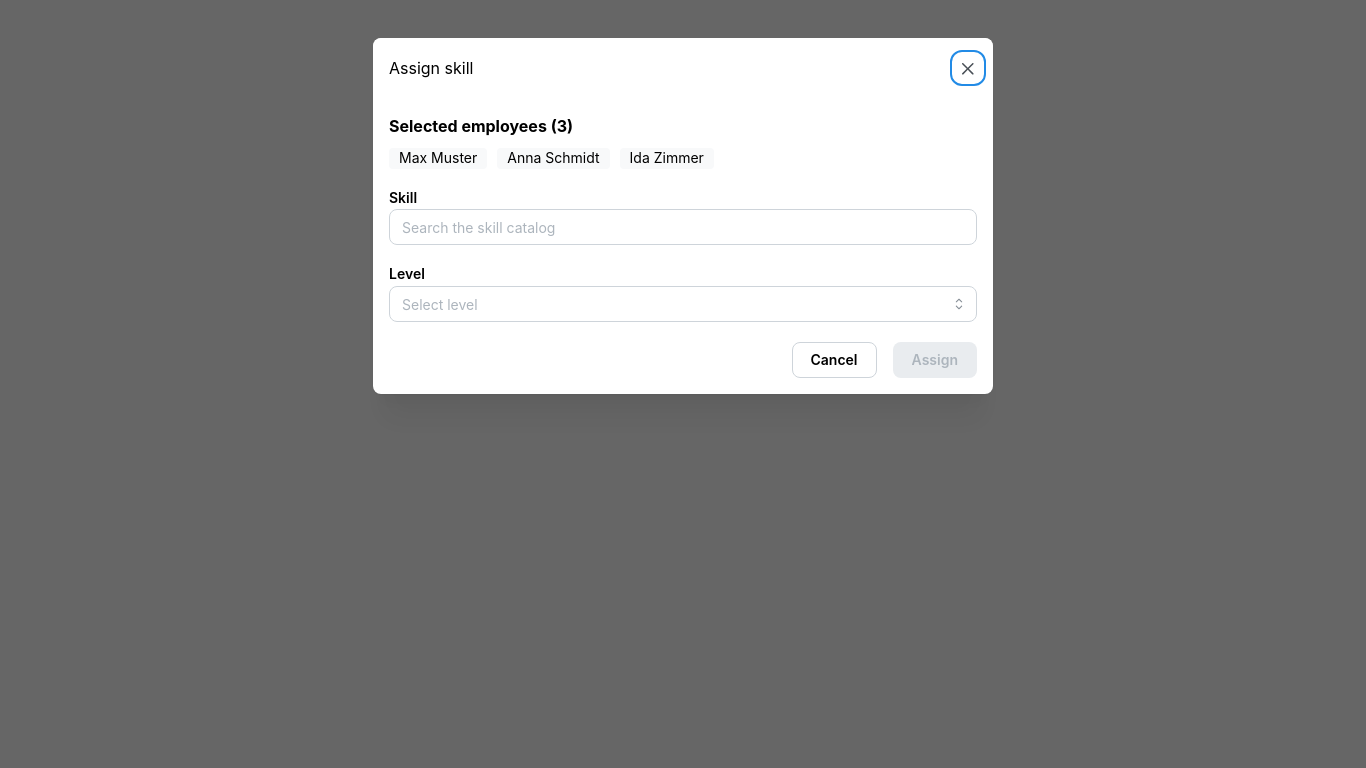
Scenario: AssignSkillDialog › shows who already has the skill and with which level
The width and height of the screenshot is (1366, 768).
Type "Python" into the field labelled "Skill" at coordinates (683, 228), box [389,210,977,246]
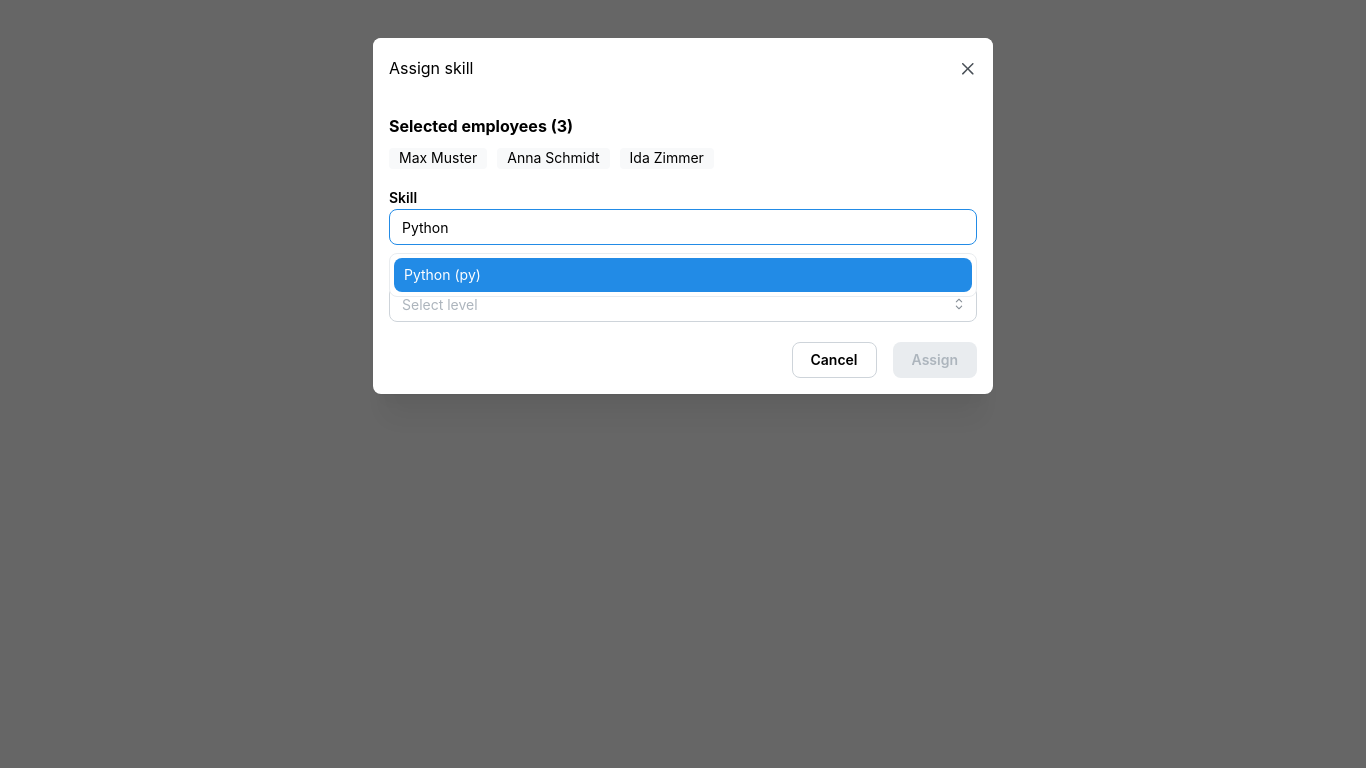
Click the option "Python (py)" at coordinates (442, 275), box [394,258,972,292]
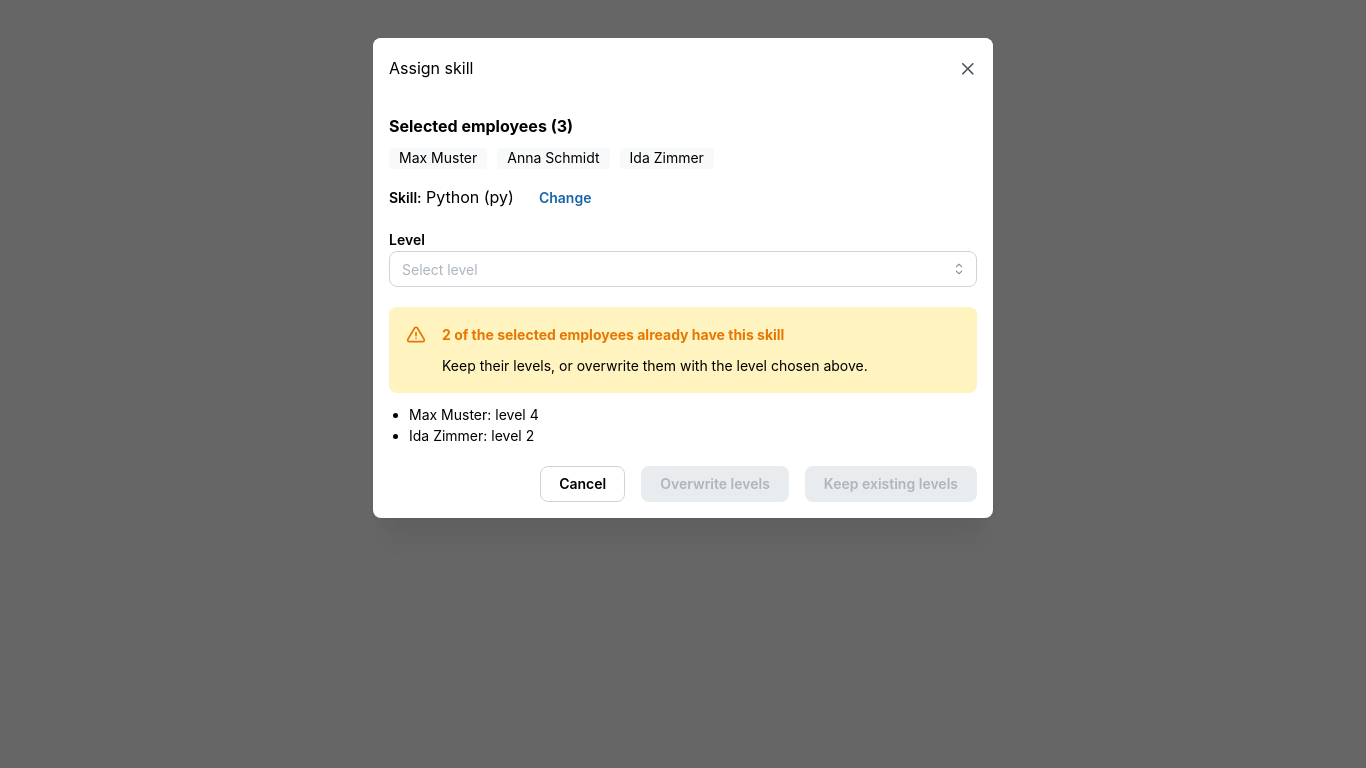
Check: the option is gone
Check: the text "2 of the selected employees already have this skill" is shown, box [442,324,784,346]
